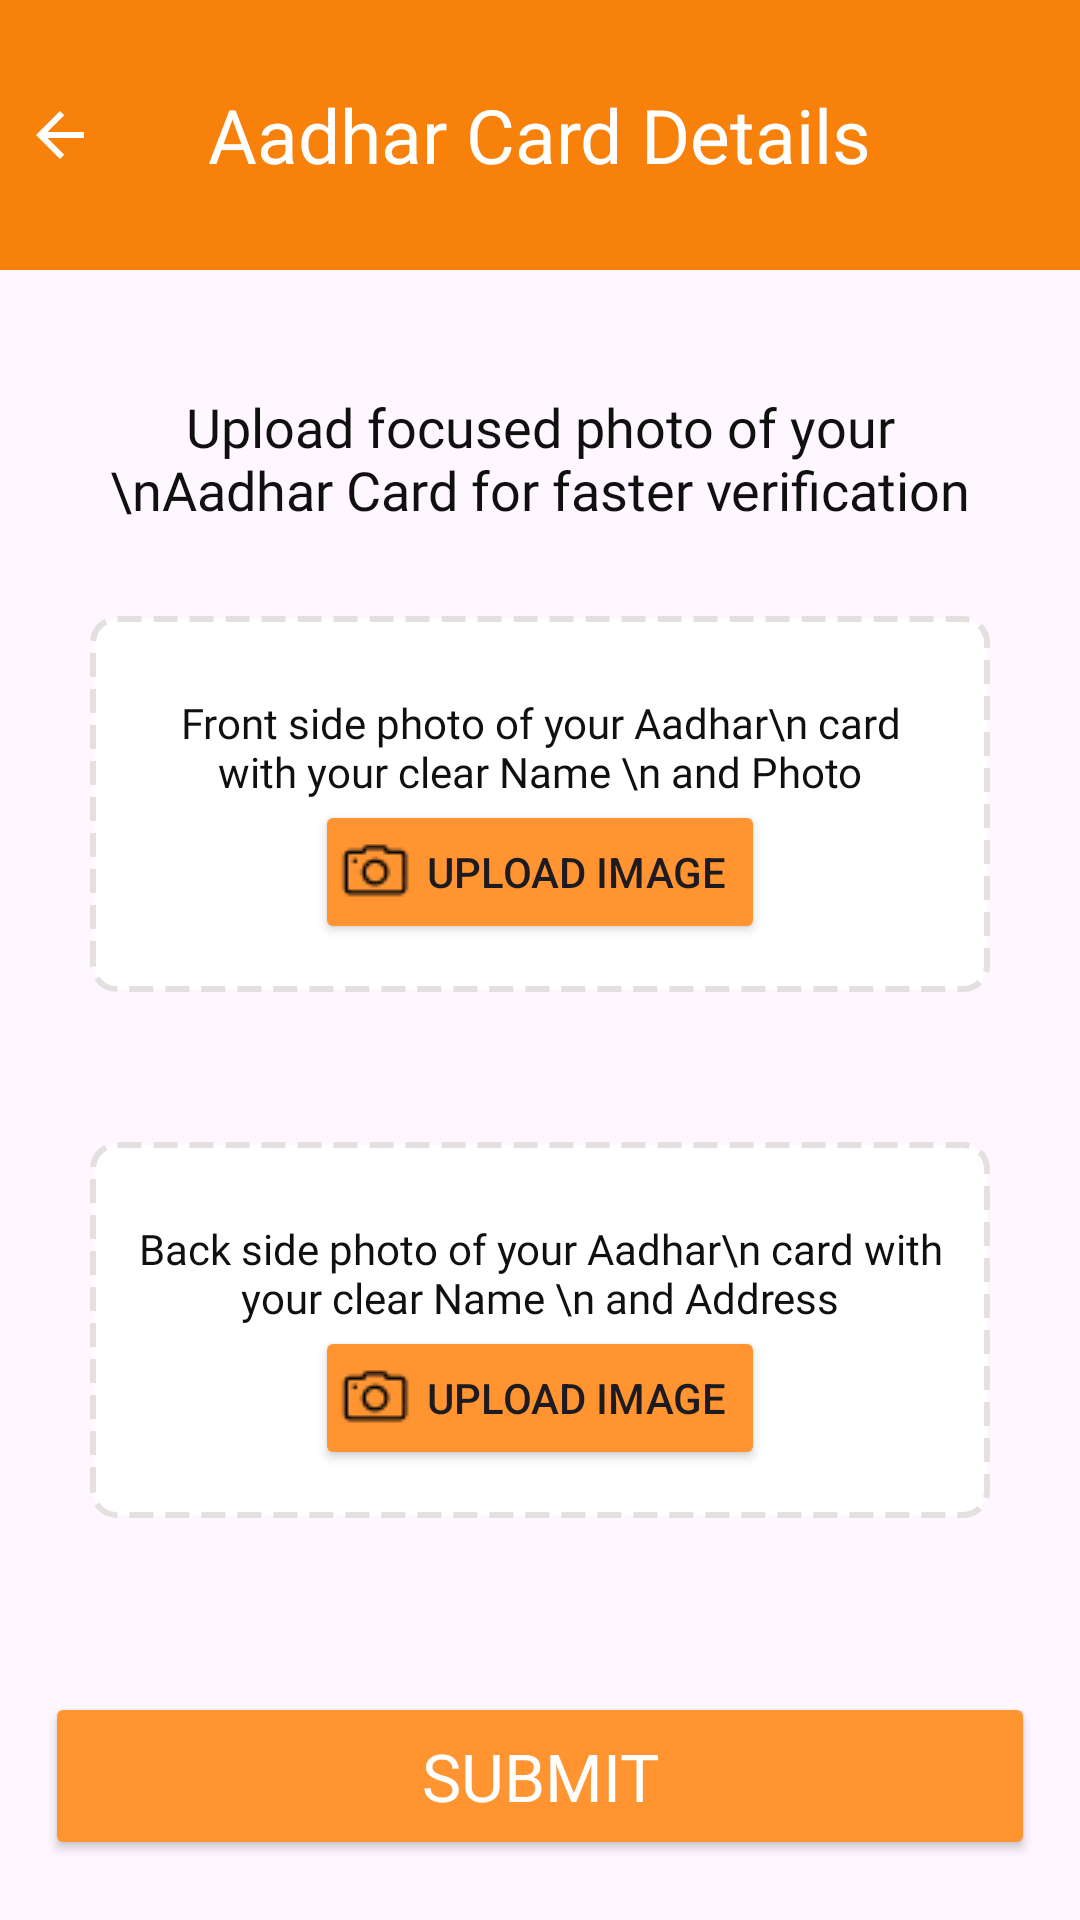

Locate icon controls on the screen. Image size 1080w x 1920h, boxes as (x1, y1, x2, y2).
Back: (36, 111, 84, 159)
